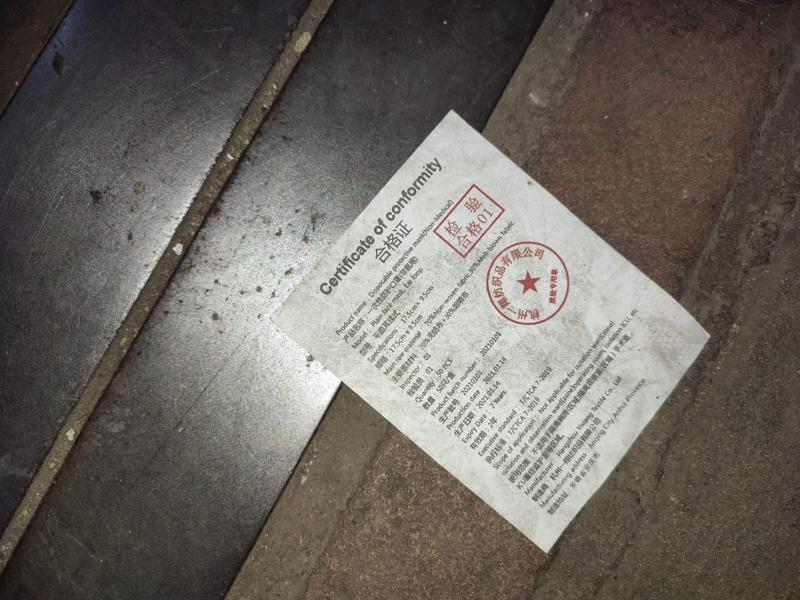papel: (272, 112, 707, 557)
